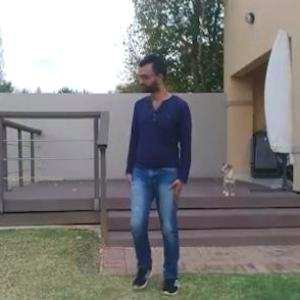follow: (103, 39, 195, 268)
